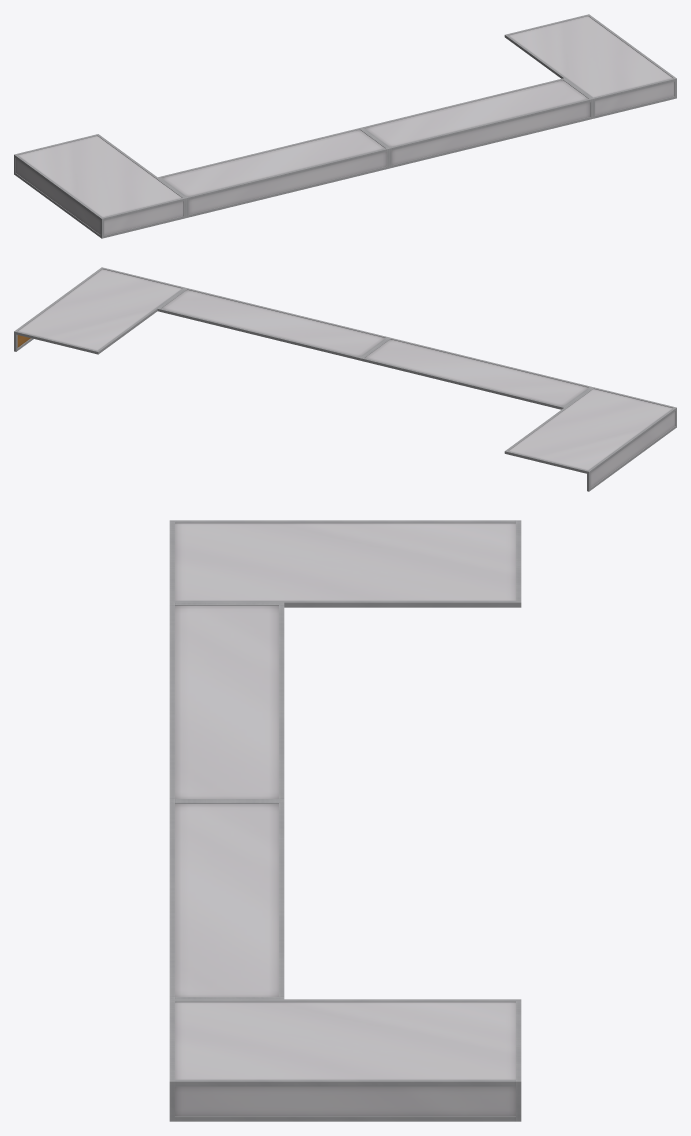
Rendered from jsf_2P_s04_c04_t03_DX.fbx.
3 renders of one model, top to bottom at view 1: azimuth 30°, elevation 25°; view 2: azimuth 150°, elevation 25°; view 3: azimuth 270°, elevation 25°, orthographic. The views are drawn at different scales.
Visible parts, largest first — view 1: jsf_2P_s04_c04_t03_DX; view 2: jsf_2P_s04_c04_t03_DX; view 3: jsf_2P_s04_c04_t03_DX.
Boxes of the visible parts, left/top/right/bottom form: jsf_2P_s04_c04_t03_DX: left=14, top=14, right=676, bottom=238; jsf_2P_s04_c04_t03_DX: left=14, top=267, right=676, bottom=491; jsf_2P_s04_c04_t03_DX: left=169, top=520, right=521, bottom=1121.
Bounding box in the file's own units: 378 × 12.51 × 100.
